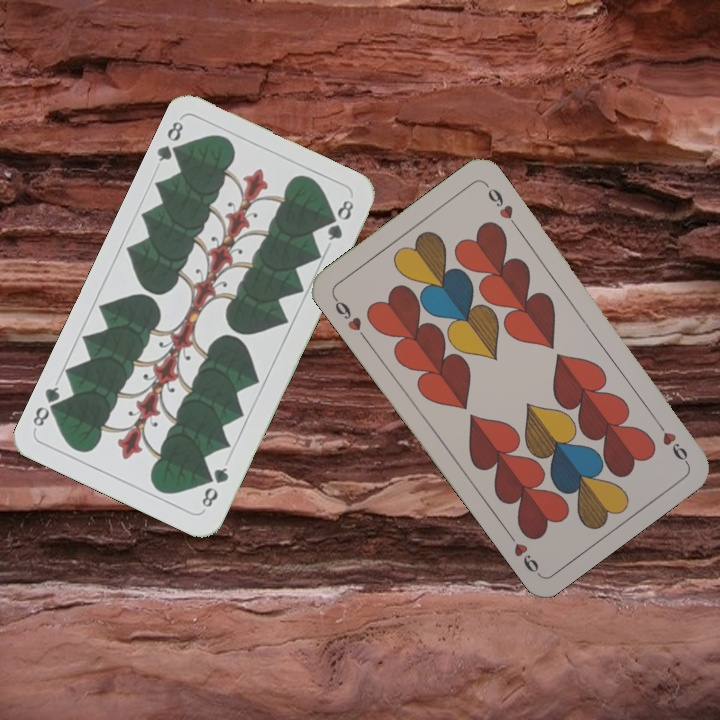G8: (153, 117, 188, 165), (197, 463, 231, 510)
H9: (651, 414, 691, 466), (329, 292, 369, 343)
